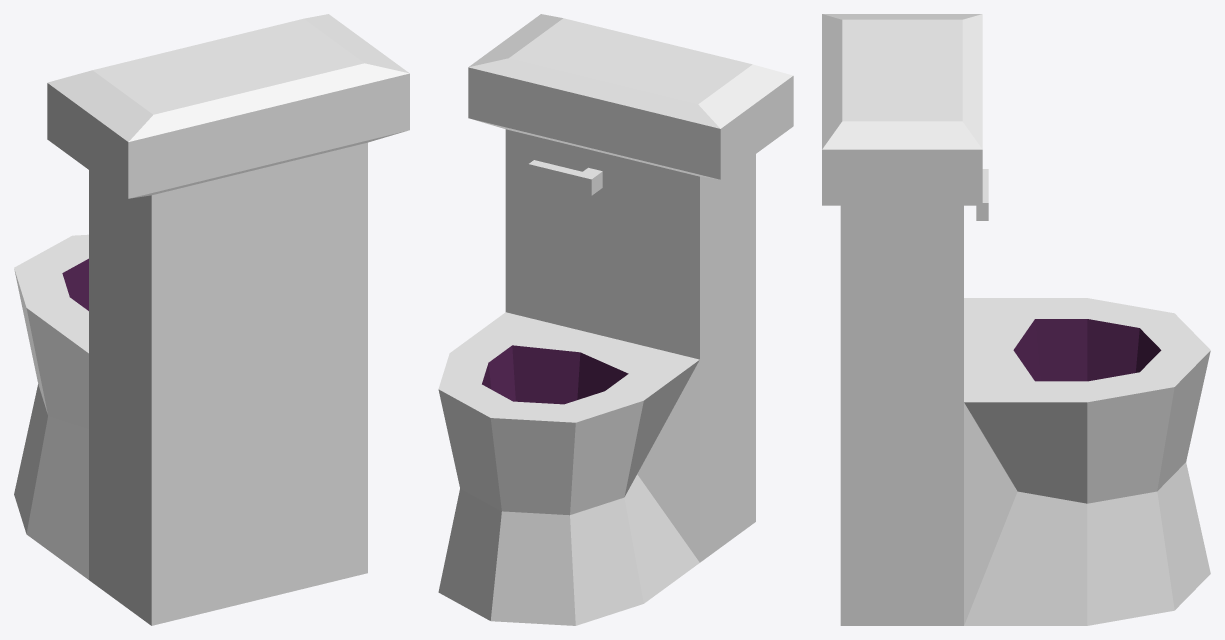
The model's file is toilet.glb.
3 renders of one model, left to right at view 1: azimuth 30°, elevation 25°; view 2: azimuth 150°, elevation 25°; view 3: azimuth 270°, elevation 25°, orthographic. The views are drawn at different scales.
Parts seen in each view (by area): view 1: Cube; view 2: Cube; view 3: Cube.
Boxes of the visible parts, left/top/right/bottom form: Cube: left=14, top=14, right=409, bottom=625; Cube: left=438, top=14, right=793, bottom=625; Cube: left=822, top=14, right=1210, bottom=625.
Bounding box in the file's own units: 2.6 × 4.5 × 3.15.
Materials: 1 (1 with a texture image).
